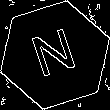N_S: (27, 25, 83, 85)
